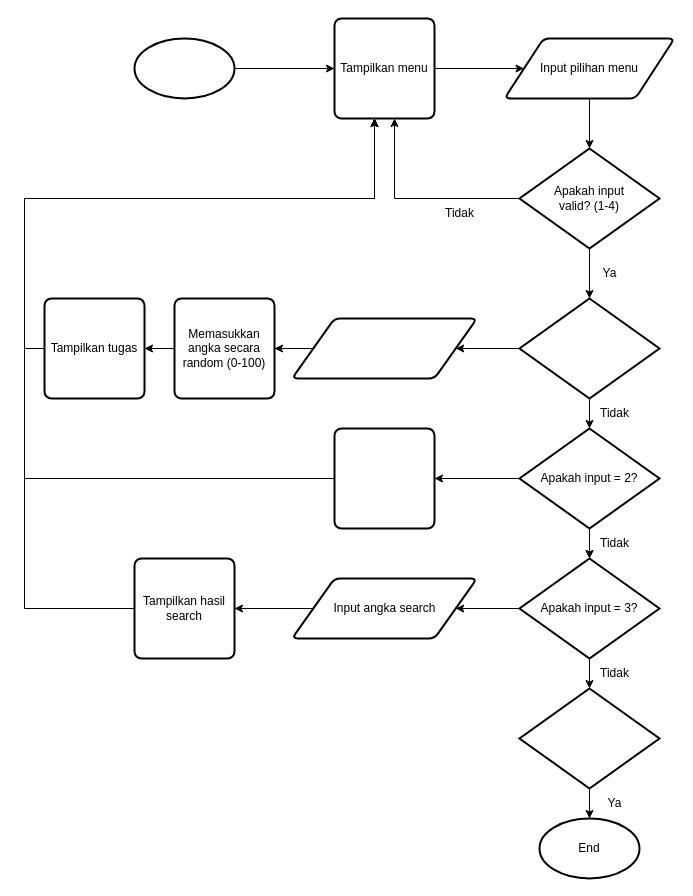
Image size: 693x896. Some labels were removed from this diagram. Each missing label, with the centre of its shape:
"Apakah input = 1?" belongs at [589,348].
"Apakah input = 4?" belongs at [589,738].
"Input jumlah nilai tugas" belongs at [384,348].
"Start" belongs at [184,68].
"Tampilkan hasil sorting (ascending)" belongs at [384,478].
